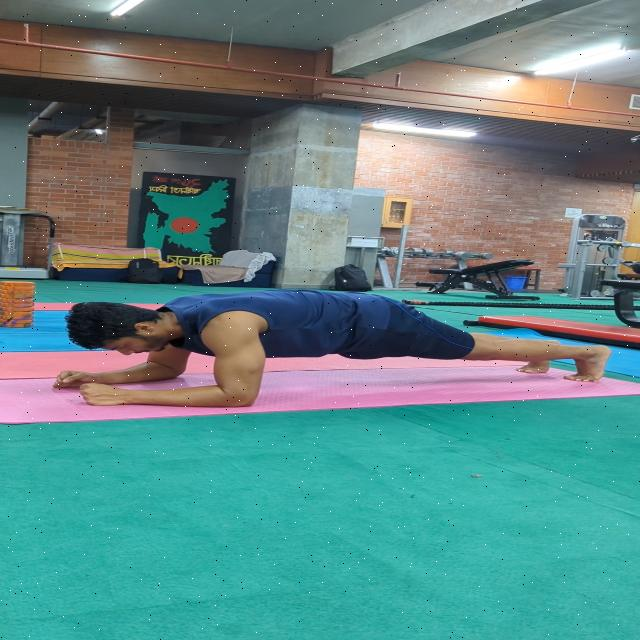Normal_Plunk: (32, 286, 622, 420)
